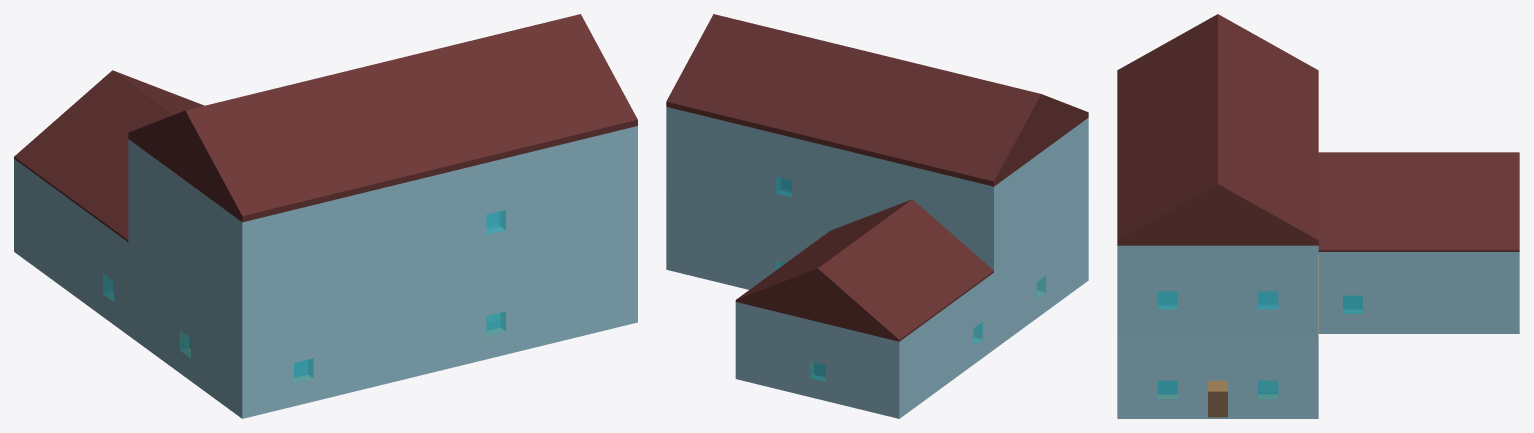
Rendered from House2f.fbx.
3 views of the same model, side by side, from view 1: azimuth 30°, elevation 25°; view 2: azimuth 150°, elevation 25°; view 3: azimuth 270°, elevation 25° (orthographic). The views are drawn at different scales.
Parts seen in each view (by area): view 1: RoofBig, Building, RoofSmall; view 2: RoofBig, Building, RoofSmall; view 3: RoofBig, Building, RoofSmall, WindowGlass10, WindowGlass11, WindowGlass1, WindowGlass2, WindowGlass8.
Part boxes in pixels (x1,y1,x2,y2): RoofBig: [128, 14, 637, 325]; Building: [14, 159, 637, 418]; RoofSmall: [14, 70, 204, 241]; RoofBig: [666, 14, 1088, 272]; Building: [666, 192, 1088, 418]; RoofSmall: [735, 199, 993, 341]; RoofBig: [1117, 14, 1318, 336]; Building: [1117, 252, 1519, 418]; RoofSmall: [1318, 152, 1519, 251]; WindowGlass10: [1258, 291, 1278, 309]; WindowGlass11: [1157, 291, 1177, 309]; WindowGlass1: [1258, 380, 1278, 398]; WindowGlass2: [1157, 380, 1177, 398]; WindowGlass8: [1343, 295, 1362, 313].
Size of the model in its own units: 4000 by 2578 by 4000.
